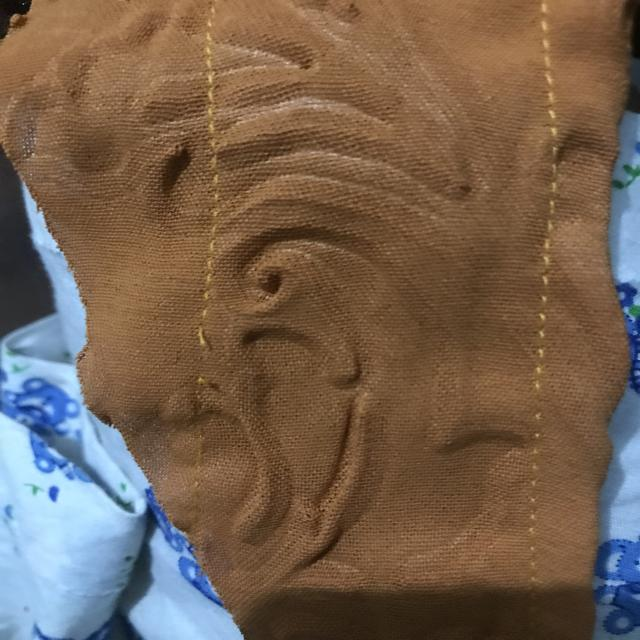broken: (180, 307, 232, 398)
